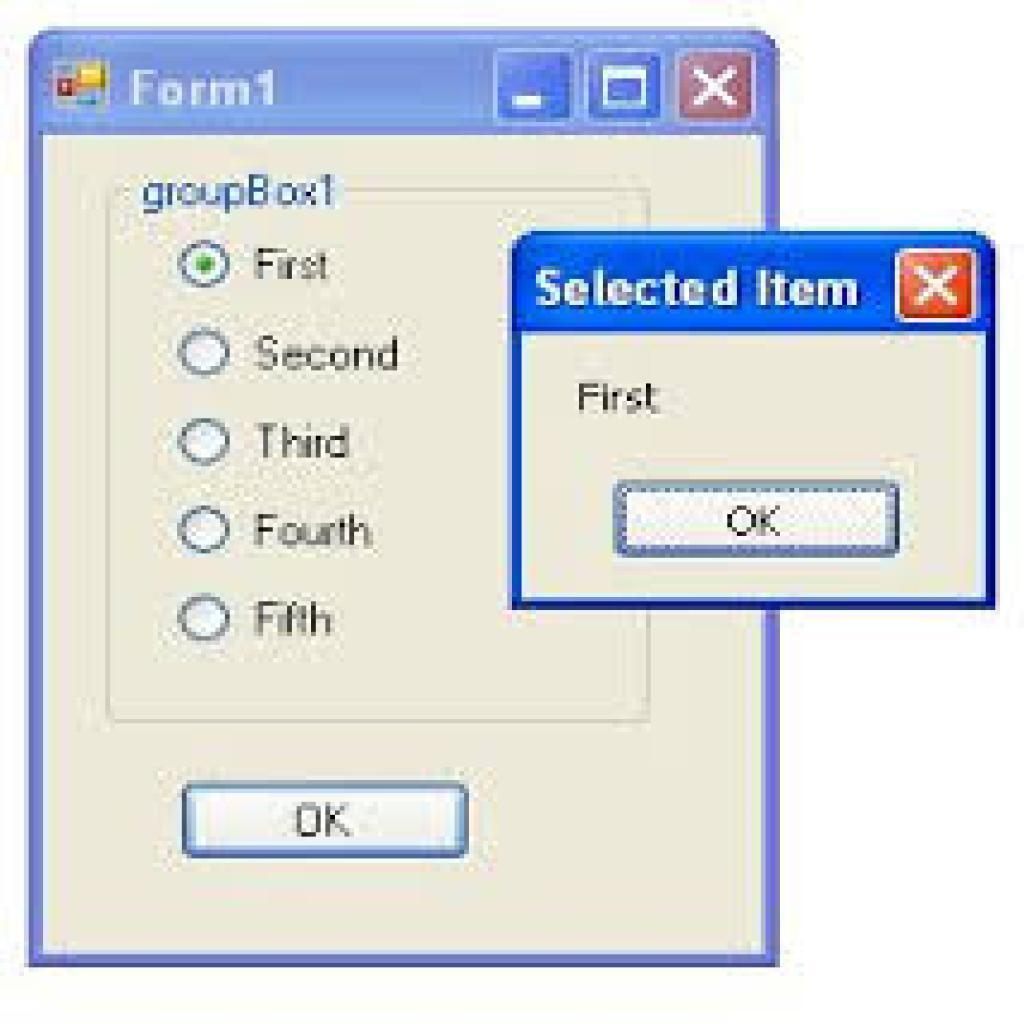button: (181, 786, 464, 855), (624, 488, 896, 555)
label: (141, 170, 344, 216), (244, 338, 407, 380), (250, 506, 371, 552), (246, 594, 342, 642), (248, 239, 343, 287), (572, 371, 665, 417), (253, 420, 351, 462)
radio: (174, 233, 239, 293), (178, 410, 231, 472), (180, 589, 231, 652), (178, 319, 229, 376), (178, 504, 234, 552)
